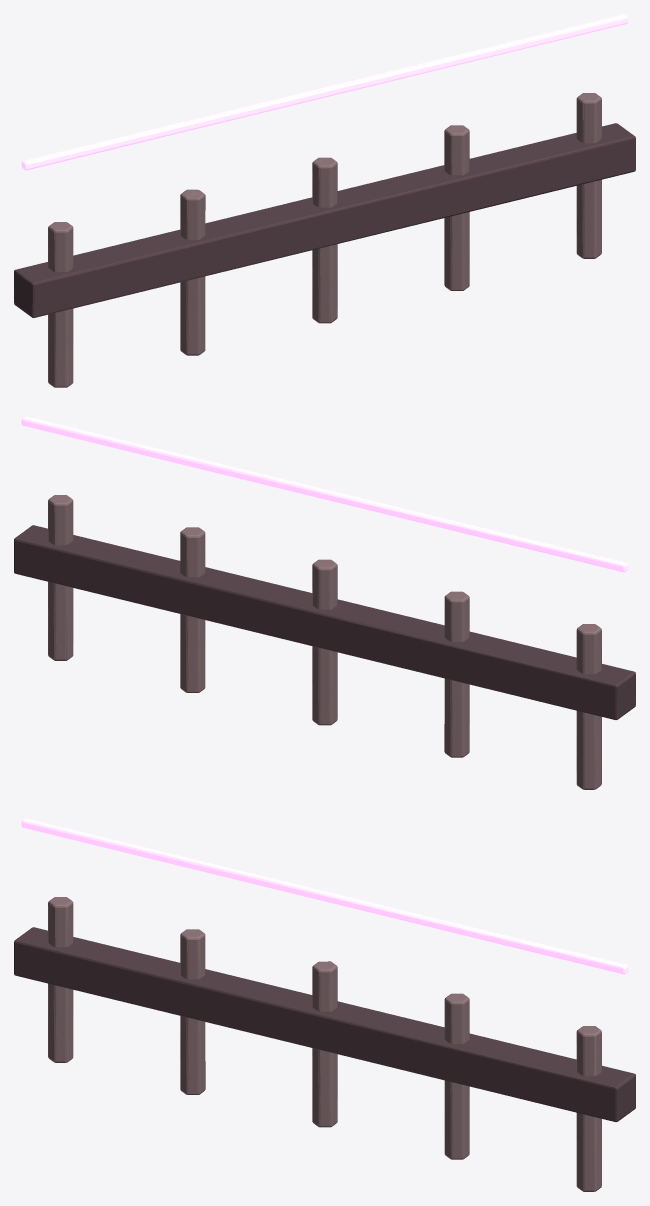
The model's file is SM_Neroberg_Rail.fbx.
3 views of the same model, one above another, from view 1: azimuth 30°, elevation 25°; view 2: azimuth 150°, elevation 25°; view 3: azimuth 330°, elevation 25° (orthographic).
Visible parts, largest first — view 1: LOD0_SM_Neroberg_Rail, LOD1_SM_Neroberg_Rail, LOD2_SM_Neroberg_Rail; view 2: LOD0_SM_Neroberg_Rail, LOD1_SM_Neroberg_Rail, LOD2_SM_Neroberg_Rail; view 3: LOD0_SM_Neroberg_Rail, LOD1_SM_Neroberg_Rail, LOD2_SM_Neroberg_Rail.
Part boxes in pixels (box(x1,y1,x2,y2)): LOD0_SM_Neroberg_Rail: box(14, 14, 635, 387); LOD1_SM_Neroberg_Rail: box(14, 14, 635, 387); LOD2_SM_Neroberg_Rail: box(15, 16, 635, 386); LOD0_SM_Neroberg_Rail: box(14, 416, 635, 789); LOD1_SM_Neroberg_Rail: box(14, 418, 635, 789); LOD2_SM_Neroberg_Rail: box(14, 418, 635, 789); LOD0_SM_Neroberg_Rail: box(14, 818, 635, 1191); LOD1_SM_Neroberg_Rail: box(14, 820, 635, 1191); LOD2_SM_Neroberg_Rail: box(14, 820, 635, 1191).
Bounding box in the file's own units: 3.2 × 1.17 × 0.18.
